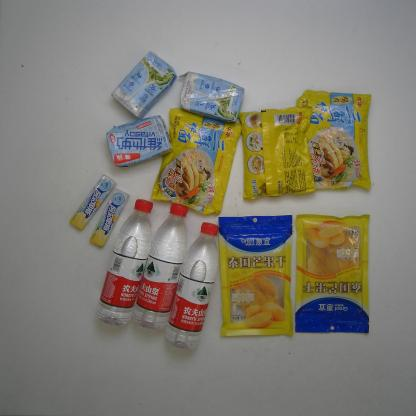Candy: (68, 173, 113, 234), (88, 186, 126, 247)
Dried Fruit: (292, 211, 378, 340), (214, 211, 300, 339)
Drink: (166, 212, 223, 348), (96, 197, 152, 326), (134, 201, 189, 329)
Instant Noodles: (149, 105, 247, 221), (292, 88, 378, 198), (232, 105, 319, 204)
Milk: (110, 48, 172, 117), (177, 68, 246, 125), (103, 114, 175, 168)
